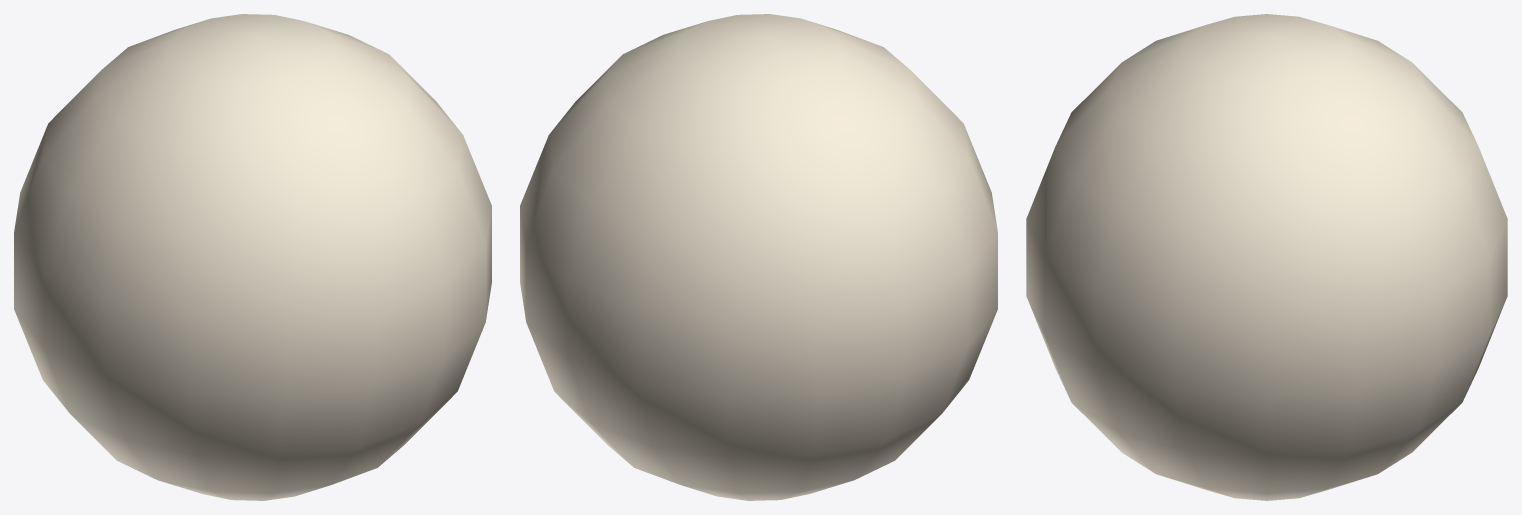
The model's file is bubblegum.glb.
3 views of the same model, side by side, from view 1: azimuth 30°, elevation 25°; view 2: azimuth 150°, elevation 25°; view 3: azimuth 270°, elevation 25° (orthographic).
Parts seen in each view (by area): view 1: bubblegum_Head; view 2: bubblegum_Head; view 3: bubblegum_Head.
Boxes of the visible parts, box(x1,y1,x2,y2) form: bubblegum_Head: box(14, 14, 491, 500); bubblegum_Head: box(520, 14, 997, 500); bubblegum_Head: box(1026, 14, 1507, 500).
Size of the model in its own units: 0.1477 by 0.15 by 0.1477.
